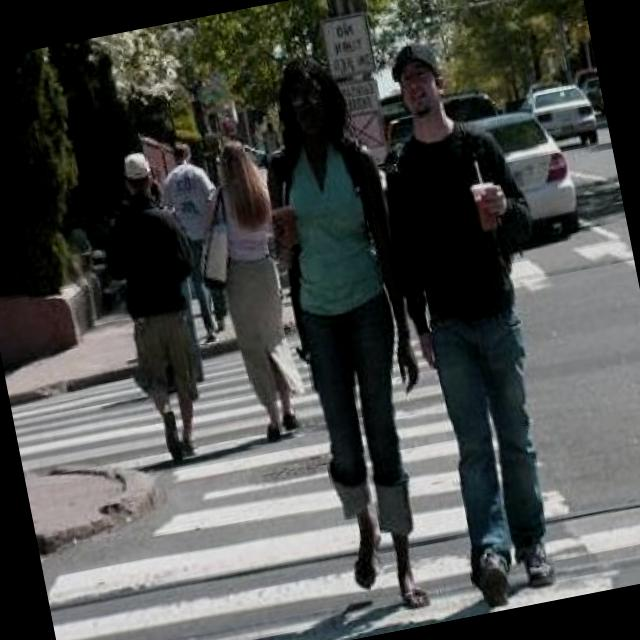Person: (348, 22, 584, 616), (238, 46, 460, 621), (82, 142, 226, 474), (181, 127, 317, 445)
